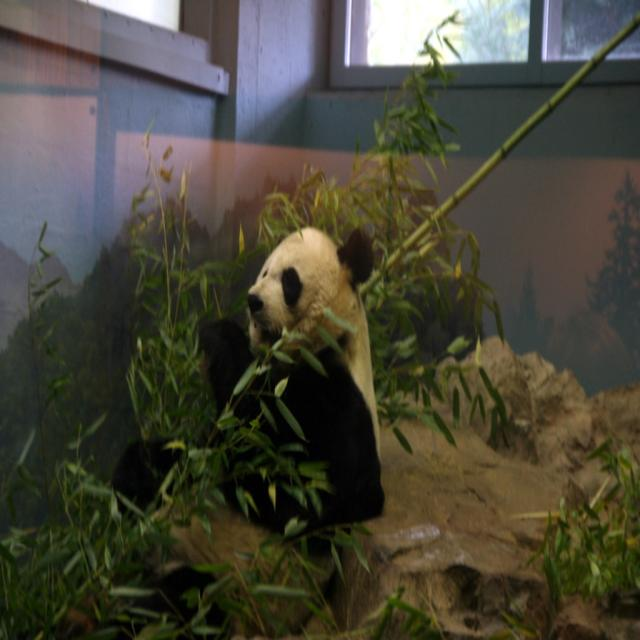panda: (106, 225, 388, 639)
